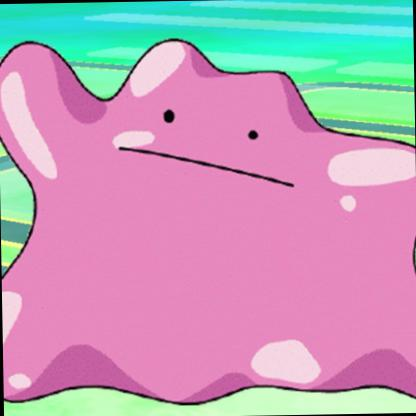Ditto: (4, 46, 416, 416)
